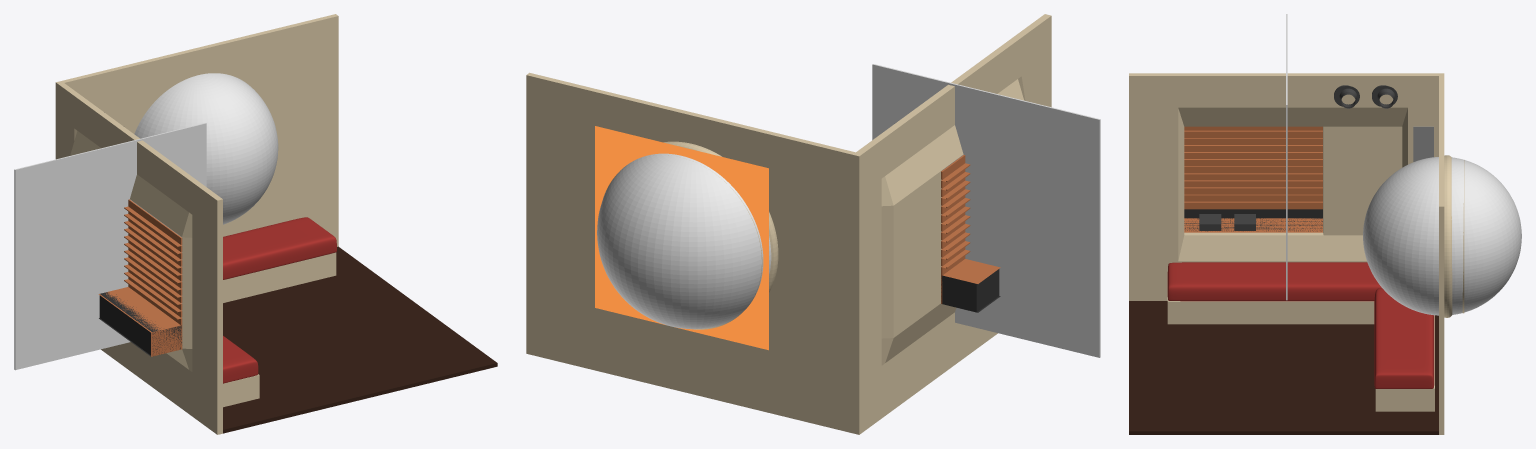
File: futureroom.gltf
The picture shows the model from 3 angles, left to right: view 1: azimuth 30°, elevation 25°; view 2: azimuth 150°, elevation 25°; view 3: azimuth 270°, elevation 25°; orthographic projection. The views are drawn at different scales.
Parts seen in each view (by area): view 1: base, Cube, Sphere, shutter, cusion.001, sofa, cusion; view 2: base, Cube, Sphere, Plane.001, shutter, window; view 3: base, Sphere, shutter, cusion, sofa, cusion.001, window, metal plate, Cube, pipe, pipe.001, Cube.001.
Part boxes in pixels (x1,y1,x2,y2): base: [55, 14, 497, 434]; Cube: [14, 123, 206, 370]; Sphere: [134, 73, 278, 224]; shutter: [98, 199, 182, 356]; cusion.001: [223, 217, 336, 279]; sofa: [223, 252, 336, 407]; cusion: [223, 336, 258, 383]; base: [526, 14, 1051, 434]; Cube: [872, 64, 1100, 357]; Sphere: [597, 153, 771, 329]; Plane.001: [595, 126, 768, 350]; shutter: [941, 155, 1000, 312]; window: [604, 141, 778, 329]; base: [1129, 73, 1444, 434]; Sphere: [1363, 157, 1521, 315]; shutter: [1184, 126, 1322, 232]; cusion: [1167, 262, 1381, 301]; sofa: [1167, 297, 1434, 411]; cusion.001: [1374, 288, 1434, 388]; window: [1444, 155, 1464, 317]; metal plate: [1413, 126, 1433, 161]; Cube: [1286, 14, 1287, 300]; pipe: [1334, 85, 1359, 108]; pipe.001: [1372, 85, 1397, 108]; Cube.001: [1199, 214, 1221, 230].
Size of what is drawn, in the model's own units: 11.48 by 6.43 by 9.96.
